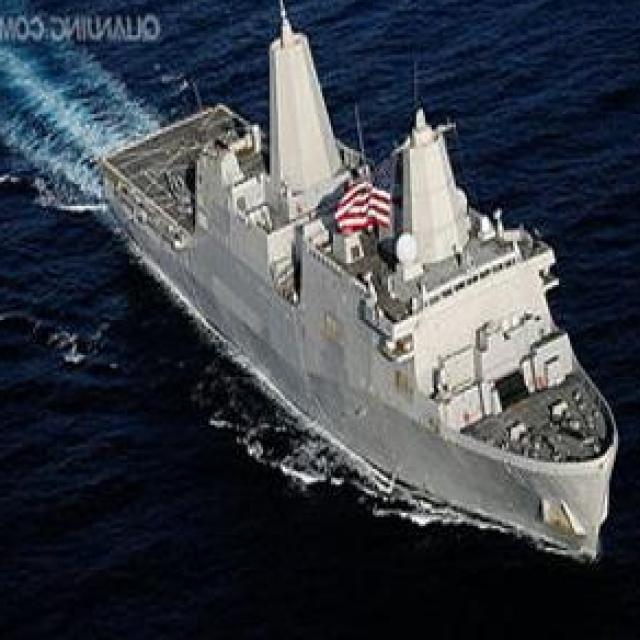navalvessels: (101, 15, 613, 549)
